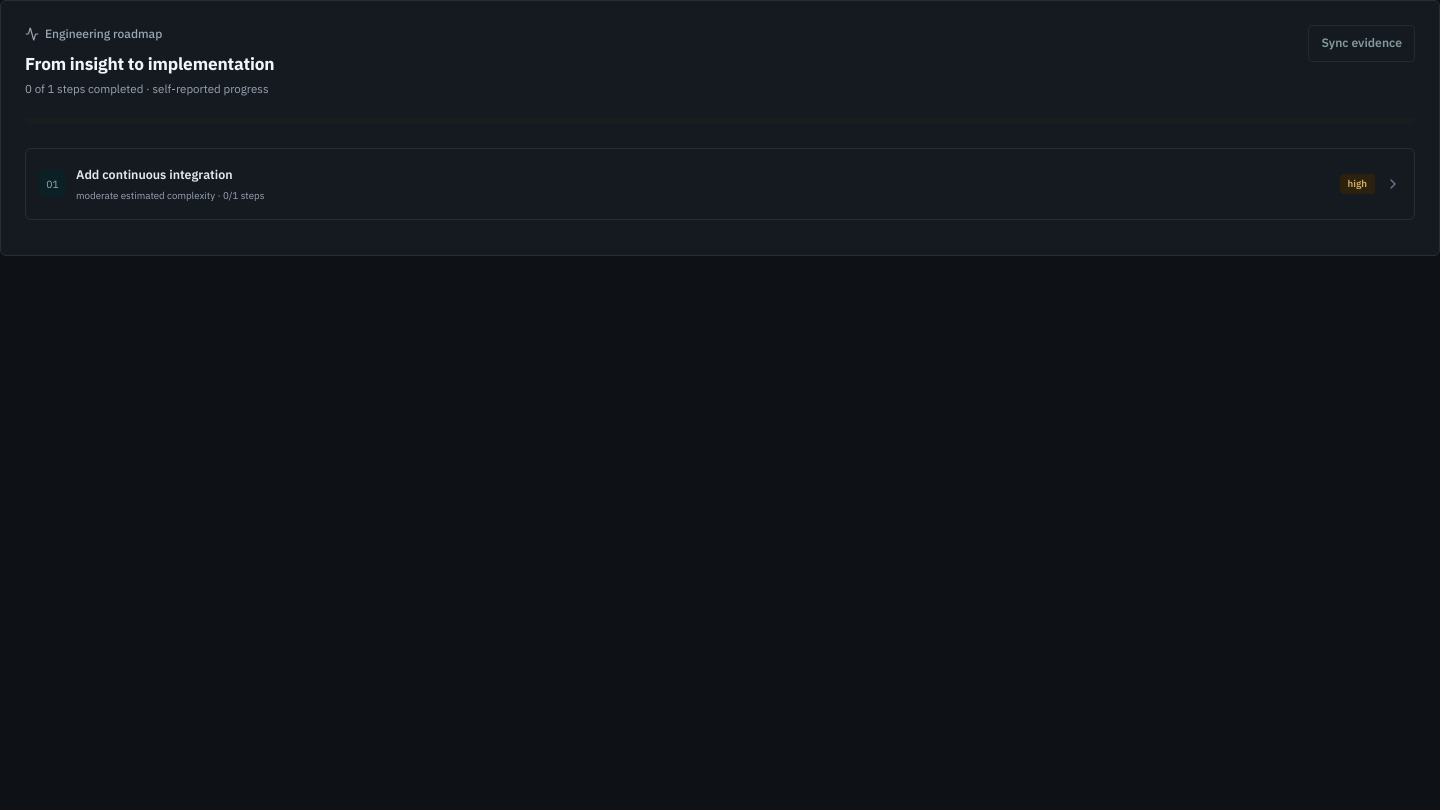
Test: Engineering interactions › keeps a failed checklist change incomplete and exposes the error
Step 1. Click the text "Add continuous integration" → (154, 174), box [76, 166, 232, 182]
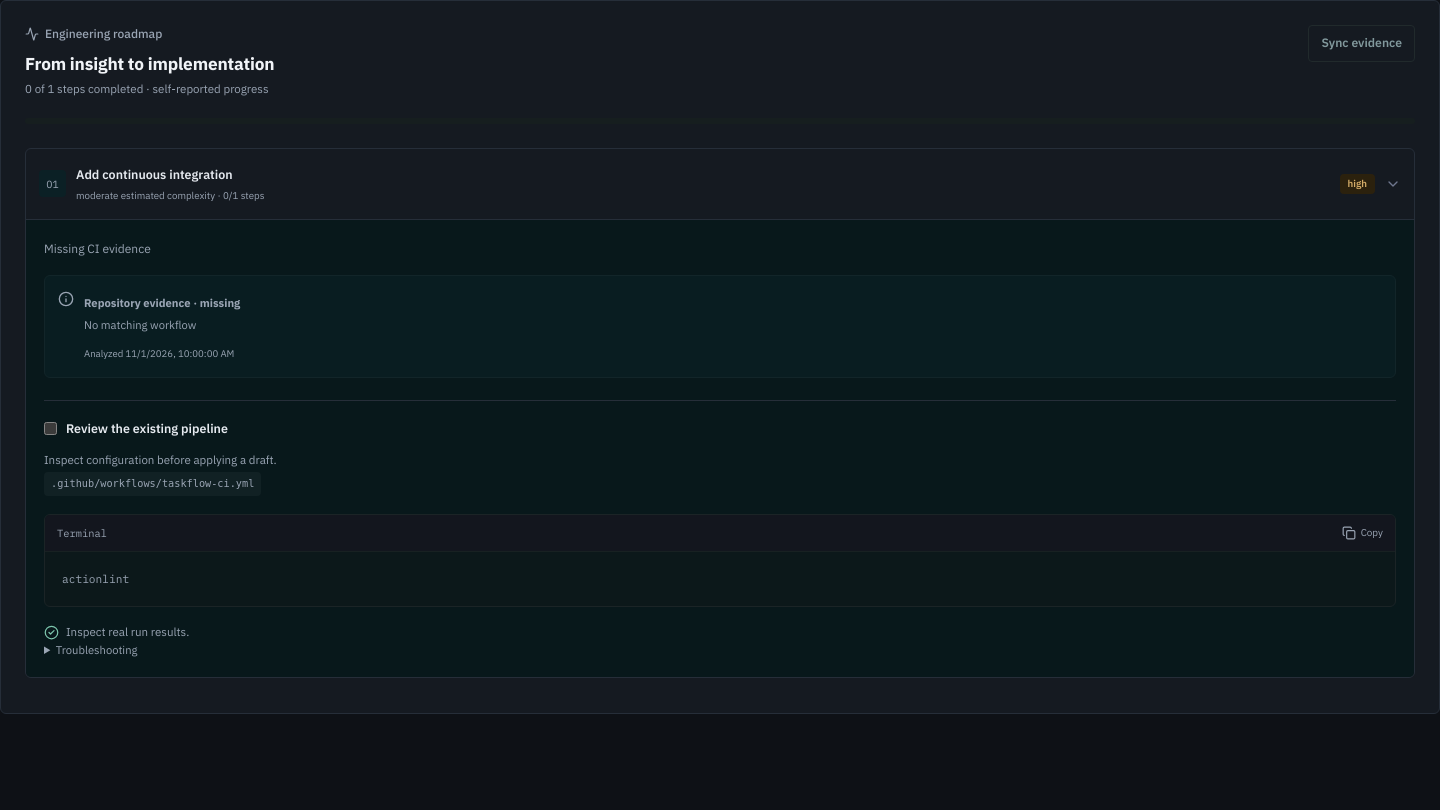
Step 2. Click the checkbox labelled "Review the existing pipeline" → (50, 429), box [44, 422, 57, 435]
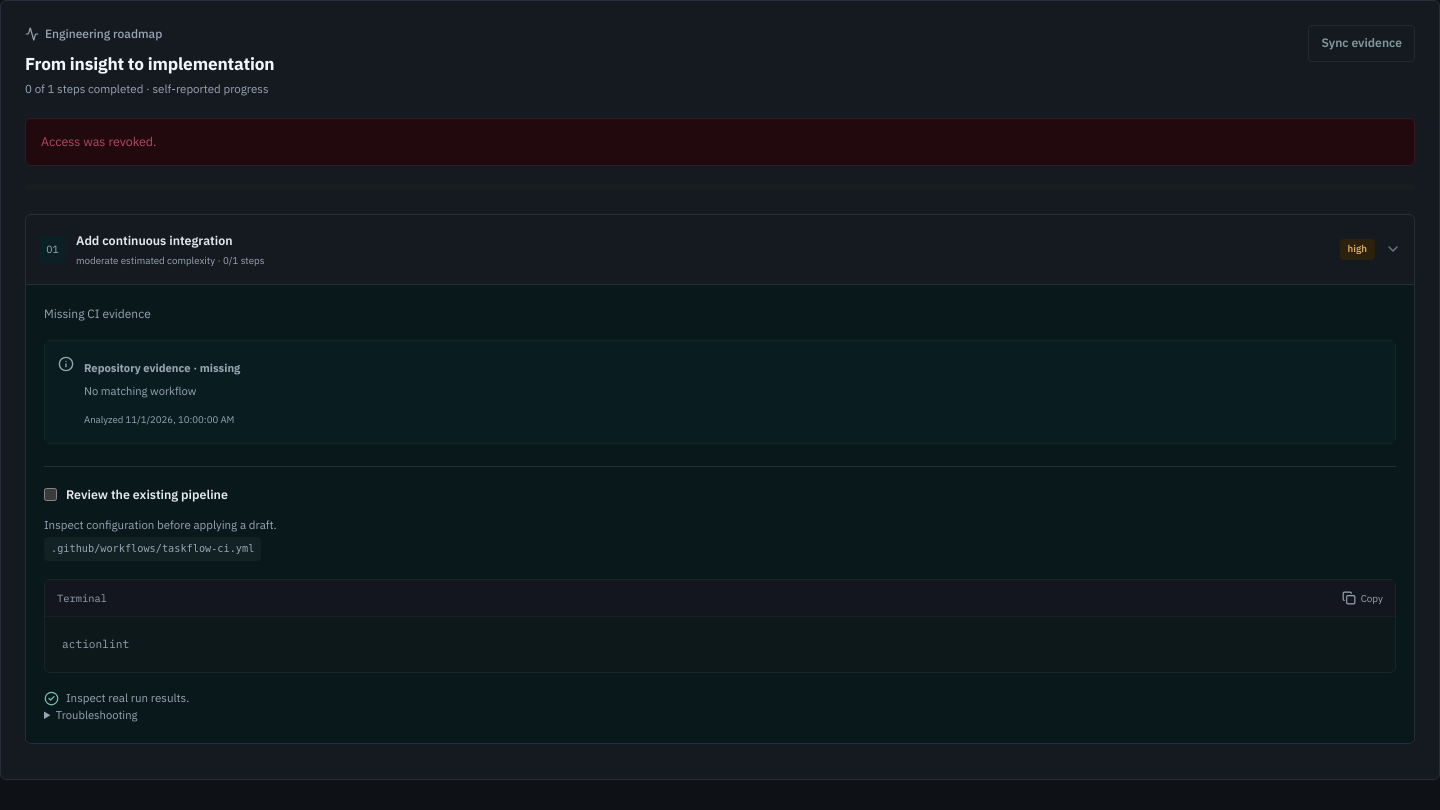
Now the checkbox labelled "Review the existing pipeline" is not checked, box [44, 488, 57, 500]
Now the message shows "Access was revoked", box [41, 133, 156, 149]
